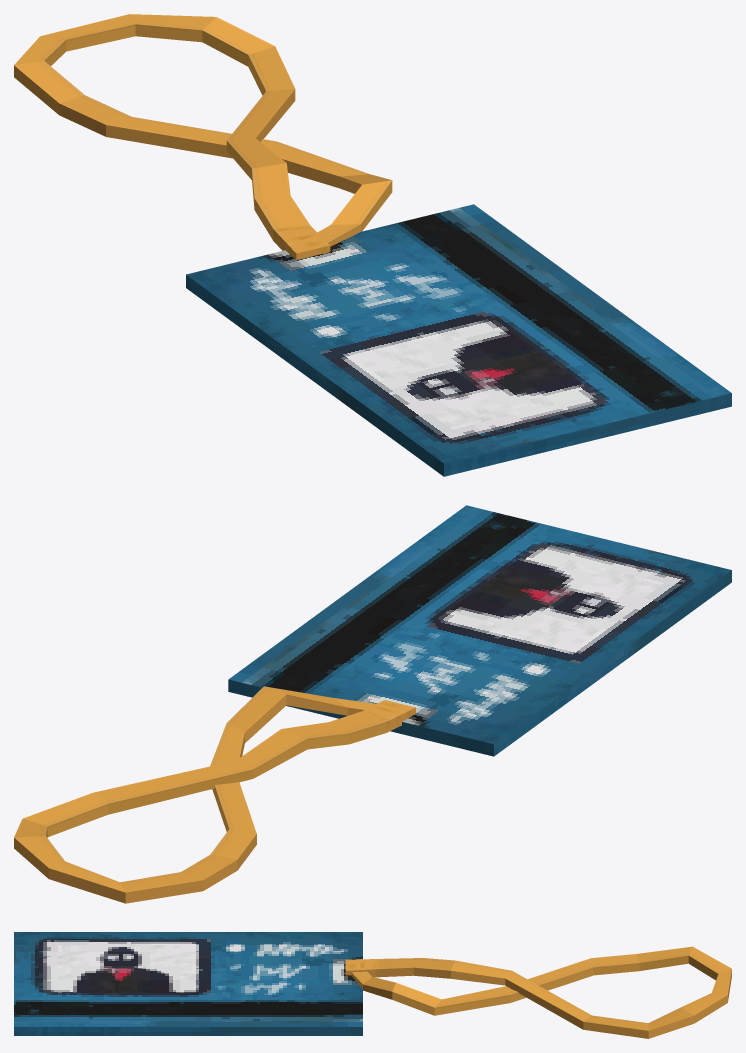
Rendered from item_keycard.glb.
3 renders of one model, top to bottom at view 1: azimuth 30°, elevation 25°; view 2: azimuth 150°, elevation 25°; view 3: azimuth 270°, elevation 25°, orthographic. The views are drawn at different scales.
Parts seen in each view (by area): view 1: Keycard; view 2: Keycard; view 3: Keycard.
Boxes of the visible parts, x1,y1,x2,y2 form: Keycard: (14,14,731,476); Keycard: (14,505,731,903); Keycard: (14,932,731,1038).
Bounding box in the file's own units: 0.1191 × 0.0141 × 0.3643.
Materials: 1 (1 with a texture image).
